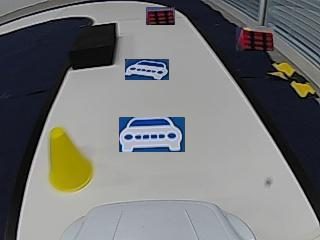block: (71, 22, 116, 68)
cone: (48, 127, 93, 192)
